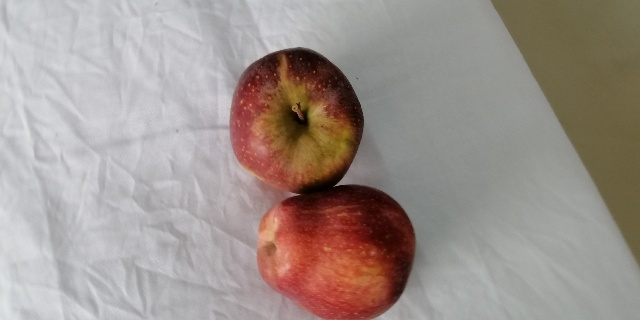apple_kashmir: (255, 181, 420, 320), (225, 46, 365, 194)
